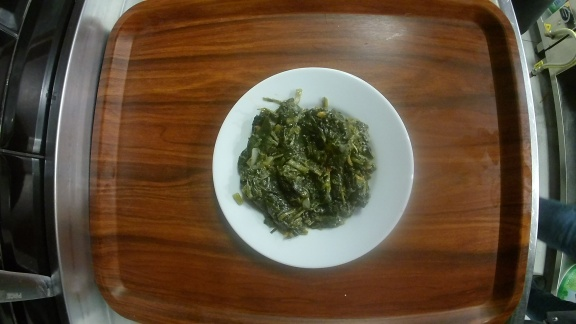ispanak: (211, 67, 415, 270)
